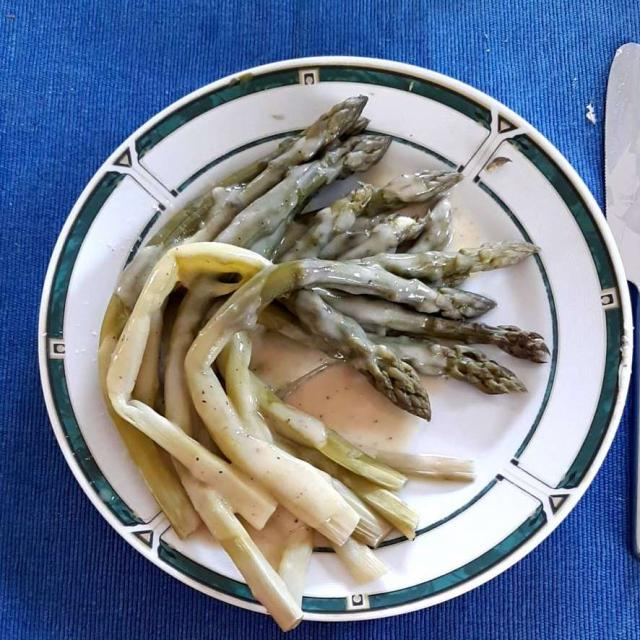water-with-lemon-juice: (134, 281, 391, 516)
